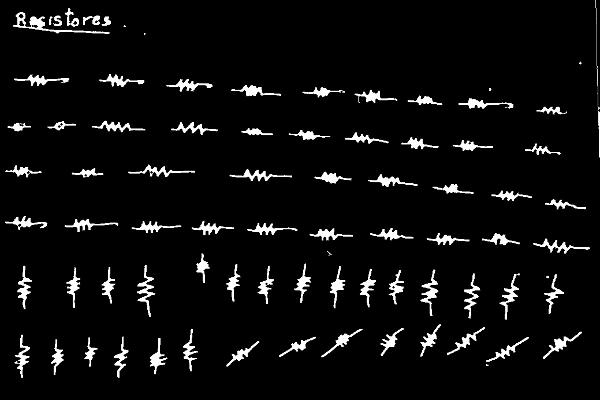resistor: (418, 275, 443, 311), (538, 236, 577, 257), (497, 280, 521, 314), (540, 281, 567, 311), (134, 273, 157, 308), (459, 280, 482, 315), (289, 271, 315, 301), (169, 76, 207, 96), (172, 119, 211, 137), (14, 271, 34, 306), (368, 172, 409, 189), (237, 168, 280, 184), (547, 333, 579, 354), (102, 71, 135, 91), (355, 87, 388, 107), (140, 161, 178, 178), (11, 343, 31, 375), (95, 119, 138, 133), (234, 82, 269, 99), (63, 274, 84, 302), (196, 219, 228, 237), (146, 345, 169, 370), (292, 128, 325, 145), (250, 220, 283, 237), (254, 276, 278, 299), (376, 331, 400, 354), (47, 343, 66, 372), (180, 338, 199, 367), (452, 332, 481, 351), (454, 138, 486, 155), (113, 343, 130, 375), (136, 218, 166, 236), (358, 276, 378, 303), (99, 273, 118, 301), (346, 130, 379, 146), (317, 170, 348, 187), (374, 226, 405, 243), (68, 216, 99, 233), (281, 338, 312, 355), (490, 343, 521, 360), (224, 270, 245, 295), (327, 275, 346, 302), (9, 214, 39, 231), (431, 230, 459, 248), (387, 276, 407, 301), (22, 72, 53, 88), (7, 163, 40, 178), (547, 195, 576, 212), (493, 189, 527, 203), (434, 182, 465, 197), (312, 227, 345, 241), (464, 96, 491, 113), (419, 329, 438, 353), (81, 341, 99, 366), (229, 345, 252, 364), (333, 331, 356, 350), (486, 231, 511, 248), (305, 85, 335, 99), (74, 166, 102, 181), (402, 135, 429, 150), (242, 125, 270, 139), (193, 257, 211, 278), (412, 95, 439, 108), (529, 143, 554, 157), (537, 104, 566, 116), (50, 119, 74, 132), (8, 120, 30, 134)
